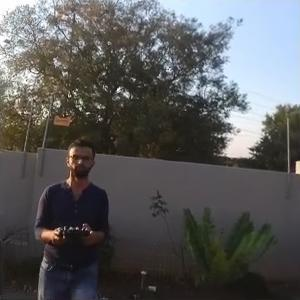follow: (29, 134, 112, 298)
